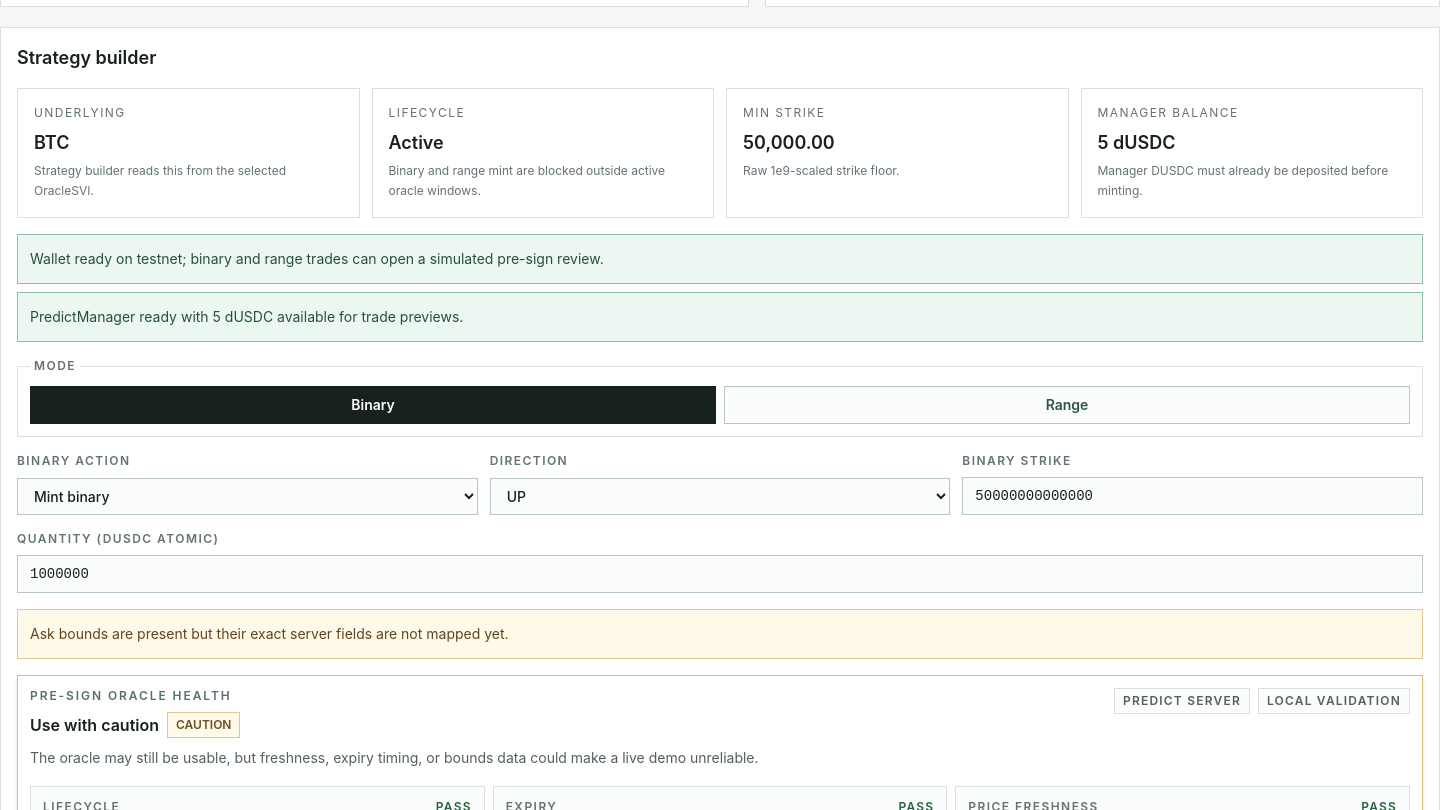
Test: MarketDetailPage and StrategyBuilder › enables wallet signature only when range mint simulation is ready
The image size is (1440, 810).
(page scrolled)
What coordinates should you click on to do the following:
click the button "Range"
I would click on:
 (1067, 405)
Its box is [724,386,1410,424].
(page scrolled)
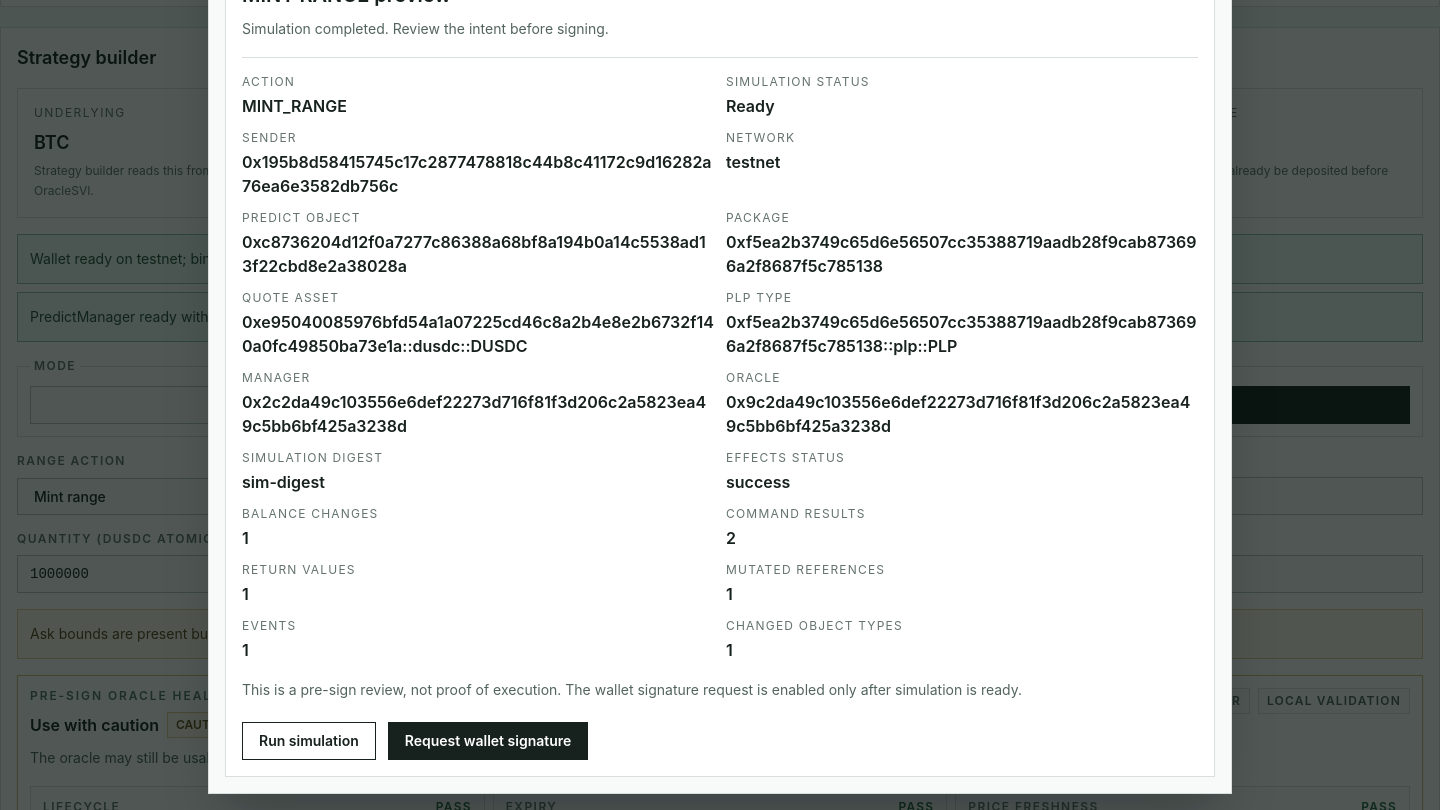
Now the dialog "Range mint execution review" is shown
Now the button "Request wallet signature" is enabled, box [388,722,588,760]
